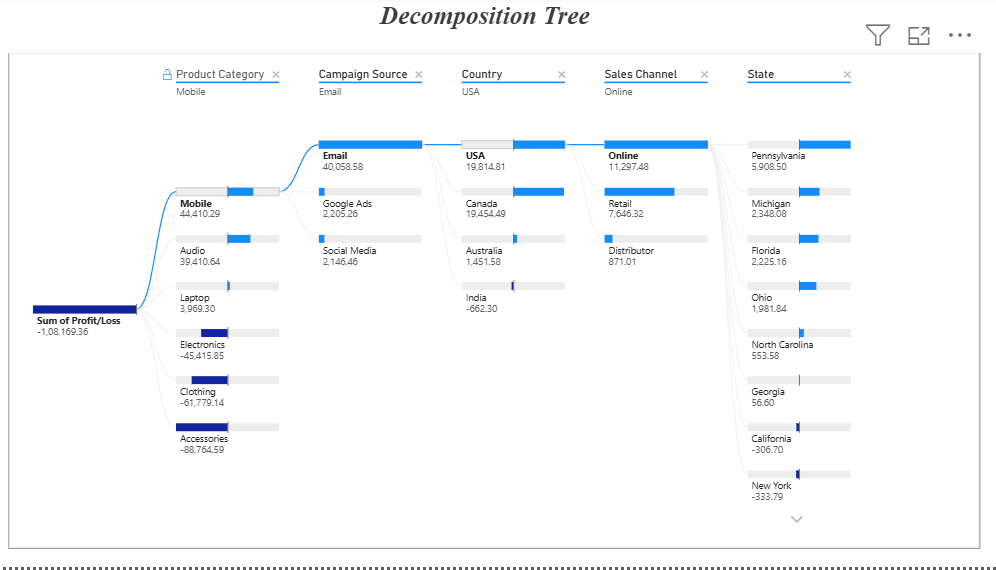

The dashboard page shown, as its layout file describes it:
{"tool":"powerbi","page":{"name":"Decomposition Tree - 2","canvas":[1280,720],"ordinal":3},"visuals":[{"type":"textbox","box":[432,0,384,48],"z":0},{"type":"decompositionTreeVisual","fields":{"Analyze":["Sum(Sales_Transactions.Profit/Loss)"],"ExplainBy":["Sales_Transactions.Product Category","Sales_Transactions.Campaign Source","Customer_Info.Country","Sales_Transactions.Sales Channel","Customer_Info.State"]},"box":[24,72,1224,624],"z":1}]}

Visuals, with their boxes in screenshot pixels (x1, y1, x2, y2), scaled from the page's 1280x720 canvas onto the 996x570 screenshot:
textbox: select_region(336, 0, 635, 38)
decompositionTreeVisual - Sum(Sales_Transactions.Profit/Loss) x Sales_Transactions.Product Category: select_region(19, 57, 971, 551)
